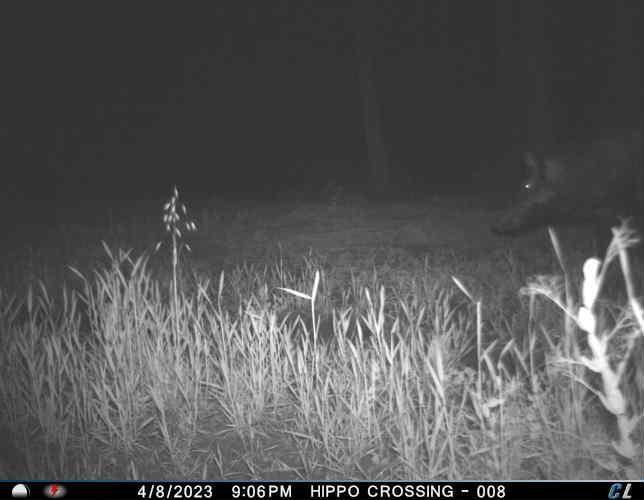Hog: (491, 116, 644, 264)
